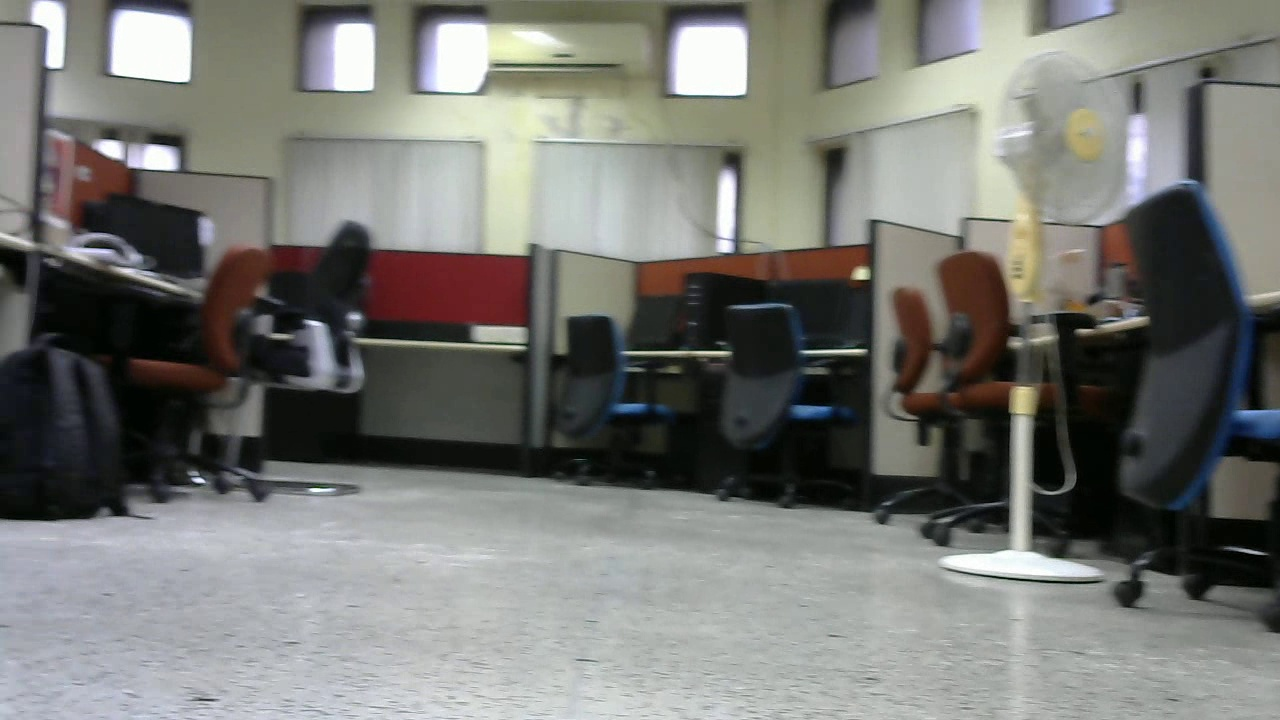chair: (872, 250, 1099, 548), (93, 246, 264, 476), (265, 223, 379, 498), (715, 304, 853, 521), (550, 312, 676, 491)
